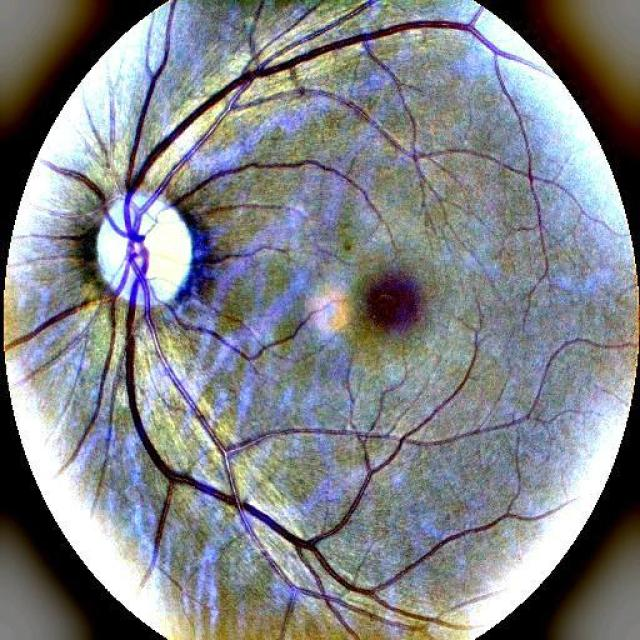Macula: (366, 274, 419, 332)
Nerves: (45, 18, 460, 282), (113, 291, 426, 623)
Optic Disk: (98, 191, 192, 301)
